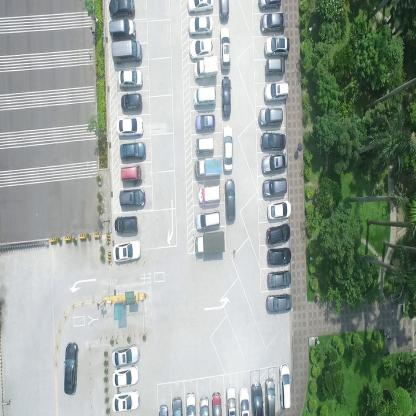car: (63, 340, 79, 394), (195, 230, 226, 255), (112, 238, 141, 264), (112, 362, 140, 388), (112, 388, 140, 413), (112, 40, 141, 64), (193, 56, 219, 82), (278, 362, 292, 410), (111, 342, 139, 366), (261, 152, 288, 175), (264, 292, 292, 314), (108, 0, 136, 22), (115, 116, 144, 137), (194, 157, 221, 179), (109, 19, 136, 41), (264, 80, 289, 103), (260, 12, 286, 34), (264, 37, 290, 59), (196, 209, 222, 231), (118, 189, 146, 209), (266, 222, 290, 245), (192, 86, 217, 108), (223, 124, 234, 174), (258, 106, 283, 128), (261, 176, 287, 197), (118, 70, 144, 91), (219, 26, 231, 71), (260, 132, 287, 152), (266, 198, 290, 220), (189, 38, 214, 59), (120, 142, 146, 162), (224, 176, 236, 219), (266, 268, 291, 288), (197, 186, 220, 207), (189, 16, 213, 36), (114, 214, 138, 234), (267, 246, 292, 264), (251, 381, 264, 415), (221, 76, 231, 118), (264, 57, 285, 77), (187, 0, 215, 15), (120, 165, 142, 184), (120, 94, 142, 112), (265, 377, 275, 415), (195, 114, 216, 132), (225, 385, 237, 415), (195, 137, 215, 154), (239, 386, 249, 416), (257, 0, 281, 12), (211, 390, 222, 415), (218, 0, 229, 22), (186, 392, 196, 415), (199, 394, 209, 415), (172, 396, 182, 415)
